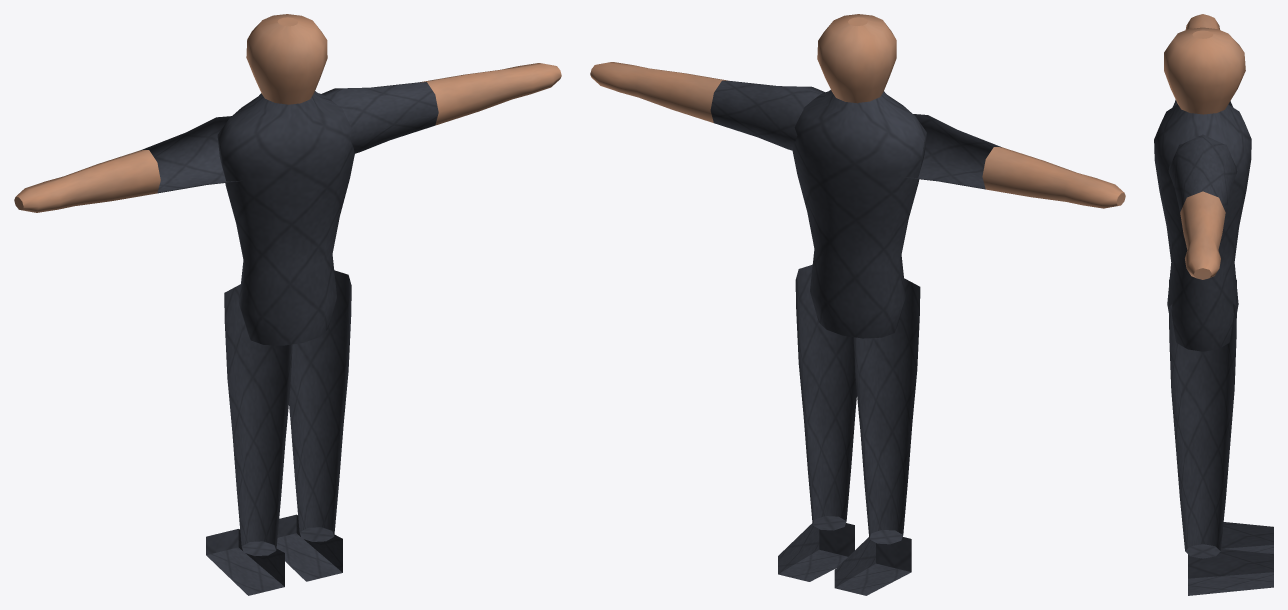
Rendered from char_base_body.glb.
3 renders of one model, left to right at view 1: azimuth 30°, elevation 25°; view 2: azimuth 150°, elevation 25°; view 3: azimuth 270°, elevation 25°, orthographic. The views are drawn at different scales.
Parts seen in each view (by area): view 1: char_base_body; view 2: char_base_body; view 3: char_base_body.
Boxes of the visible parts, x1=… form: char_base_body: x1=14, y1=14, x2=561, y2=595; char_base_body: x1=590, y1=14, x2=1125, y2=595; char_base_body: x1=1154, y1=14, x2=1273, y2=595.
Size of the model in its own units: 1.82 by 1.8 by 0.363.
2 materials, 2 textured.
